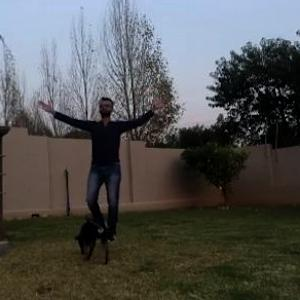takeoff: (1, 77, 152, 260)
